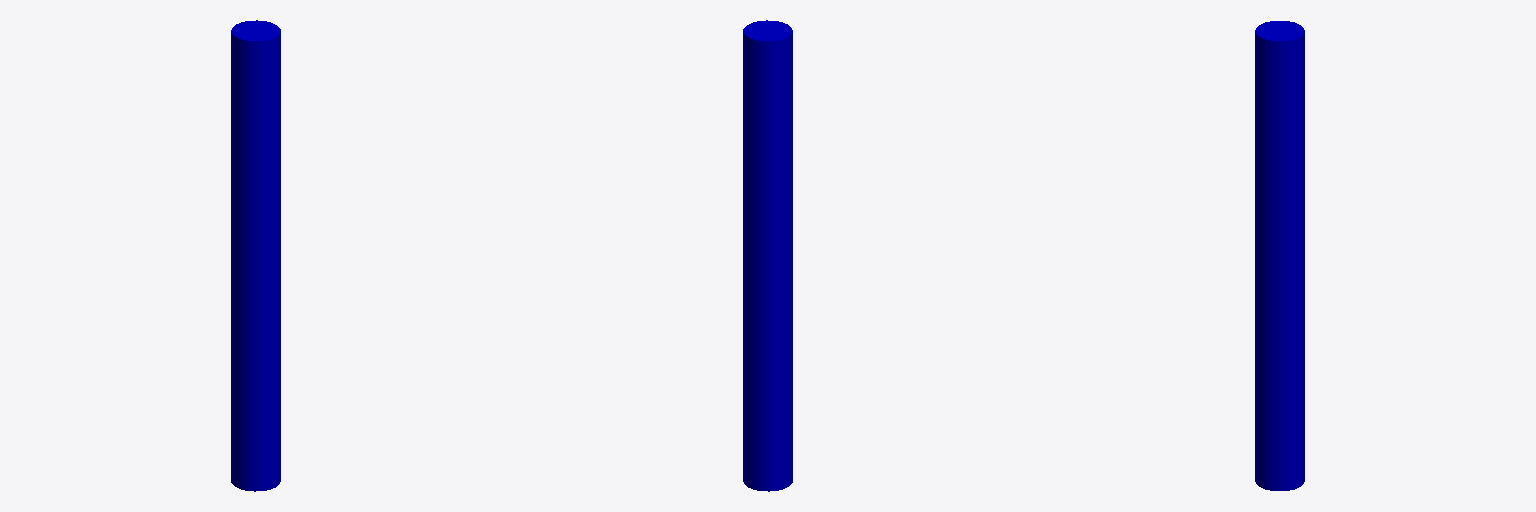
The robot description file, URDF, robot "haptic_pen":
<?xml version="1.0"?>
<robot name="haptic_pen">
  <link name="base_link">
    <inertial>
      <mass value="0.01"/>
      <origin xyz="0 0 0"/>
      <inertia ixx="1e-6" ixy="0" ixz="0" iyy="1e-6" iyz="0" izz="1e-6"/>
    </inertial>

    <visual>
      <origin xyz="0 0 0" rpy="0 0 0"/>
      <geometry>
        <cylinder length="0.1" radius="0.005"/>
      </geometry>
      <material name="blue">
        <color rgba="0 0 0.8 1"/>
      </material>
    </visual>

    <collision name="haptic_pen_collision">
      <origin xyz="0 0 0" rpy="0 0 0"/>
      <geometry>
        <cylinder length="0.1" radius="0.005"/>
      </geometry>
    </collision>
  </link>
</robot>

--- What the picture shows (computed from the rendered views, not written in the file) ---
Views: 3 orthographic renders of the robot side by side, from view 1: azimuth 30°, elevation 25°; view 2: azimuth 150°, elevation 25°; view 3: azimuth 270°, elevation 25°.
Model haptic_pen with 1 links and 0 joints (none), rooted at base_link, posed every joint at zero.
Links seen in each view (by area): view 1: base_link; view 2: base_link; view 3: base_link.
Link boxes in pixels (box(x1,y1,x2,y2)): base_link: box(231, 20, 280, 491); base_link: box(743, 20, 792, 491); base_link: box(1255, 21, 1304, 490).
Size in the robot's own frame: 0.01 by 0.01 by 0.1 metres.
Geometry: primitives only (box / cylinder / sphere), no mesh files.